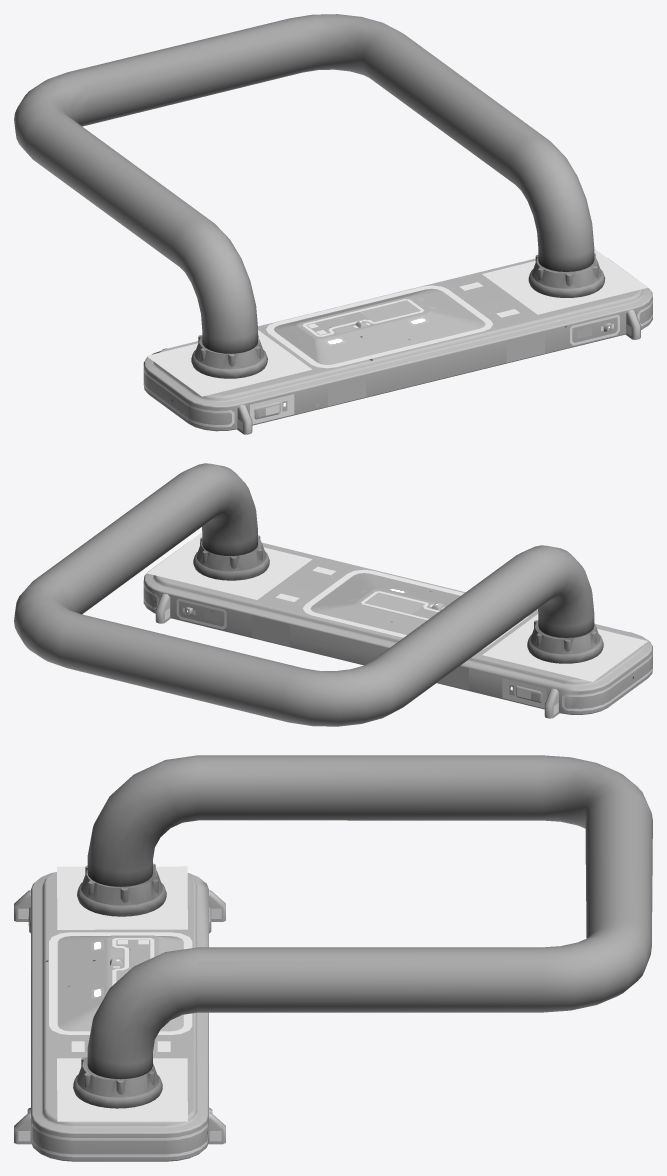
Rendered from SM_Construction_5_Merged.fbx.
3 views of the same model, one above another, from view 1: azimuth 30°, elevation 25°; view 2: azimuth 150°, elevation 25°; view 3: azimuth 270°, elevation 25° (orthographic). The views are drawn at different scales.
Visible parts, largest first — view 1: SM_Construction_5_Merged_LOD0; view 2: SM_Construction_5_Merged_LOD0; view 3: SM_Construction_5_Merged_LOD0.
Boxes of the visible parts, left/top/right/bottom form: SM_Construction_5_Merged_LOD0: left=14, top=14, right=652, bottom=434; SM_Construction_5_Merged_LOD0: left=14, top=463, right=652, bottom=726; SM_Construction_5_Merged_LOD0: left=14, top=755, right=652, bottom=1161.
Bounding box in the file's own units: 437 × 448 × 136.
